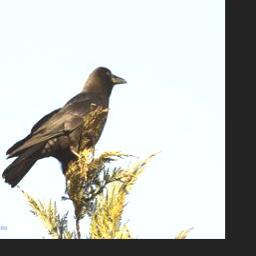Crow: (1, 62, 129, 193)
